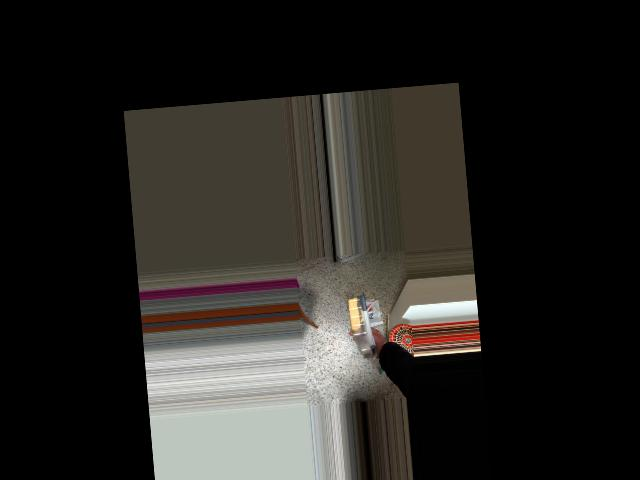cheese: (329, 290, 409, 348)
